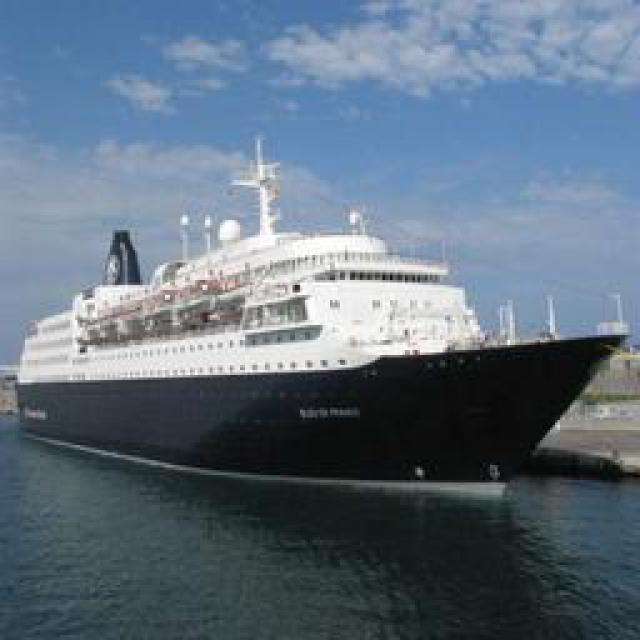Ship: (21, 129, 621, 464)
